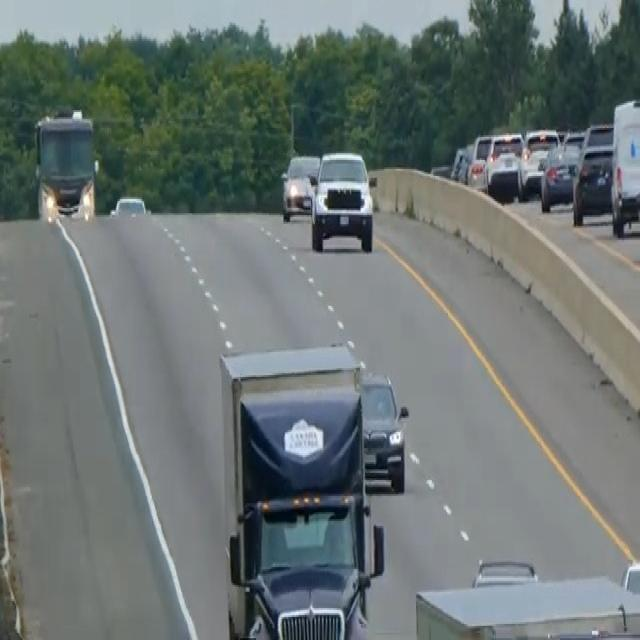bus: (31, 103, 98, 224)
car: (308, 148, 375, 252), (358, 368, 409, 494), (571, 121, 614, 226), (539, 128, 585, 212), (279, 151, 320, 221), (519, 126, 559, 196), (486, 130, 524, 199), (466, 132, 492, 192), (449, 140, 472, 185), (109, 192, 147, 219)
lorry: (216, 339, 386, 636)
minibus: (609, 95, 639, 236)
